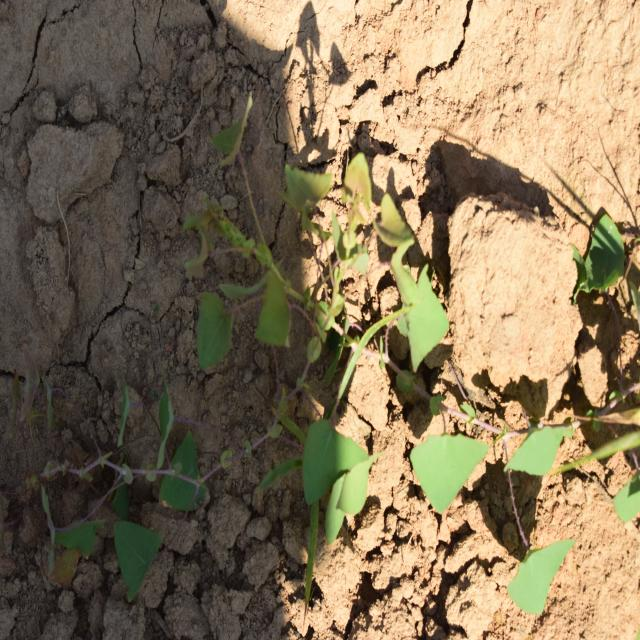Asiatic_Smartweed: (197, 93, 458, 385), (408, 400, 574, 620), (52, 395, 215, 591)
